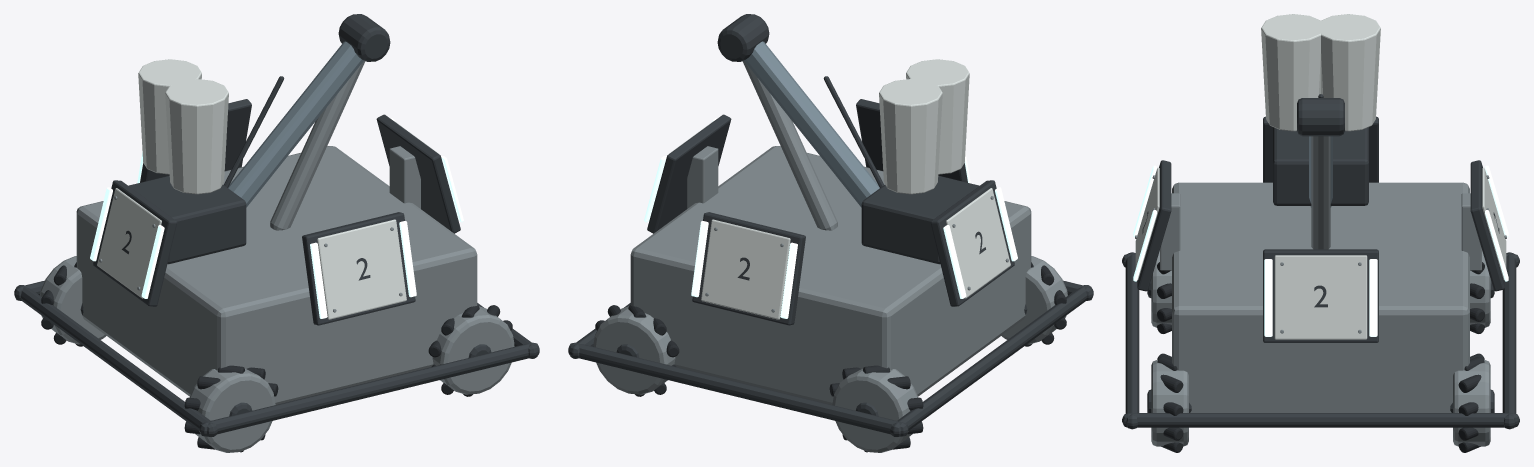
The model's file is robot-2-spec2026.glb.
3 views of the same model, side by side, from view 1: azimuth 30°, elevation 25°; view 2: azimuth 150°, elevation 25°; view 3: azimuth 270°, elevation 25° (orthographic).
Visible parts, largest first — view 1: Chassis_RobotMatteAluminum, Chassis_RobotMatteGraphite, Chassis_CeramicPanels, EnergyUnit, UpperArm, MecanumHub, MecanumHub.002, EnergyUnit.001, Forearm, Chassis_TeamGlow, ArmShoulder_RobotMatteGraphite, MecanumHub.001 (+3 smaller); view 2: Chassis_RobotMatteAluminum, Chassis_RobotMatteGraphite, Chassis_CeramicPanels, EnergyUnit.001, UpperArm, MecanumHub.001, MecanumHub.003, EnergyUnit, Forearm, Chassis_TeamGlow, ArmShoulder_RobotMatteGraphite, MecanumHub (+3 smaller); view 3: Chassis_RobotMatteAluminum, Chassis_RobotMatteGraphite, Chassis_CeramicPanels, EnergyUnit, EnergyUnit.001, Chassis_TeamGlow, Forearm, ArmShoulder_RobotMatteGraphite, MecanumHub.002, MecanumHub.003, Wheel_2_TireRubber, Wheel_3_TireRubber (+5 smaller).
Boxes of the visible parts, left/top/right/bottom form: Chassis_RobotMatteAluminum: left=76, top=146, right=477, bottom=404; Chassis_RobotMatteGraphite: left=14, top=99, right=539, bottom=436; Chassis_CeramicPanels: left=97, top=120, right=438, bottom=319; EnergyUnit: left=165, top=79, right=228, bottom=194; UpperArm: left=228, top=41, right=363, bottom=207; MecanumHub: left=189, top=369, right=275, bottom=452; MecanumHub.002: left=432, top=306, right=514, bottom=394; EnergyUnit.001: left=138, top=59, right=201, bottom=174; Forearm: left=270, top=60, right=365, bottom=230; Chassis_TeamGlow: left=90, top=118, right=463, bottom=318; ArmShoulder_RobotMatteGraphite: left=224, top=14, right=390, bottom=187; MecanumHub.001: left=40, top=256, right=106, bottom=344; Chassis_RobotMatteAluminum: left=630, top=146, right=1031, bottom=404; Chassis_RobotMatteGraphite: left=568, top=99, right=1093, bottom=436; Chassis_CeramicPanels: left=669, top=120, right=1010, bottom=319; EnergyUnit.001: left=879, top=79, right=942, bottom=194; UpperArm: left=744, top=41, right=879, bottom=207; MecanumHub.001: left=832, top=369, right=918, bottom=452; MecanumHub.003: left=593, top=306, right=675, bottom=394; EnergyUnit: left=906, top=59, right=969, bottom=174; Forearm: left=742, top=60, right=837, bottom=230; Chassis_TeamGlow: left=644, top=118, right=1017, bottom=318; ArmShoulder_RobotMatteGraphite: left=717, top=14, right=883, bottom=187; MecanumHub: left=1001, top=256, right=1067, bottom=344; Chassis_RobotMatteAluminum: left=1135, top=175, right=1506, bottom=412; Chassis_RobotMatteGraphite: left=1122, top=116, right=1519, bottom=429; Chassis_CeramicPanels: left=1135, top=167, right=1506, bottom=339; EnergyUnit: left=1261, top=14, right=1324, bottom=131; EnergyUnit.001: left=1318, top=14, right=1380, bottom=131; Chassis_TeamGlow: left=1133, top=165, right=1508, bottom=336; Forearm: left=1311, top=136, right=1330, bottom=249; ArmShoulder_RobotMatteGraphite: left=1297, top=94, right=1344, bottom=136; MecanumHub.002: left=1151, top=360, right=1188, bottom=446; MecanumHub.003: left=1453, top=360, right=1490, bottom=446; Wheel_2_TireRubber: left=1157, top=353, right=1183, bottom=452; Wheel_3_TireRubber: left=1458, top=353, right=1484, bottom=452.
Size of the model in its own units: 0.58 by 0.5321 by 0.58.
